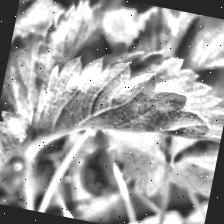Powdery Mildew Leaf: (28, 28, 224, 181), (0, 93, 38, 207)
